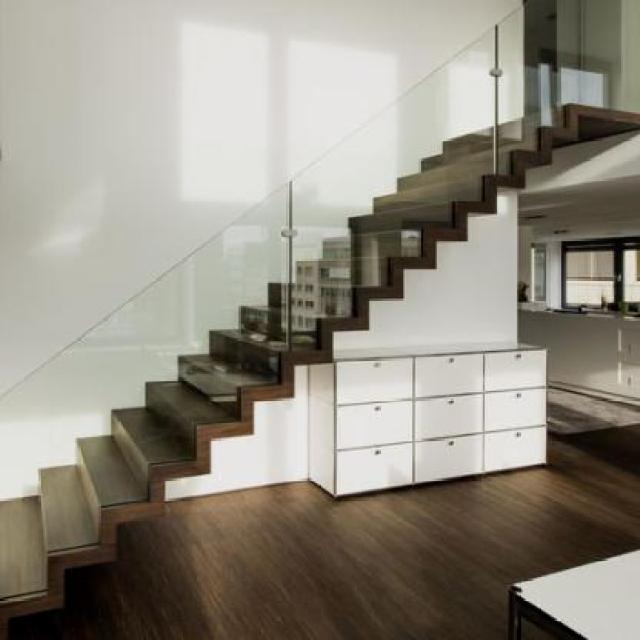stair: (0, 43, 638, 638)
